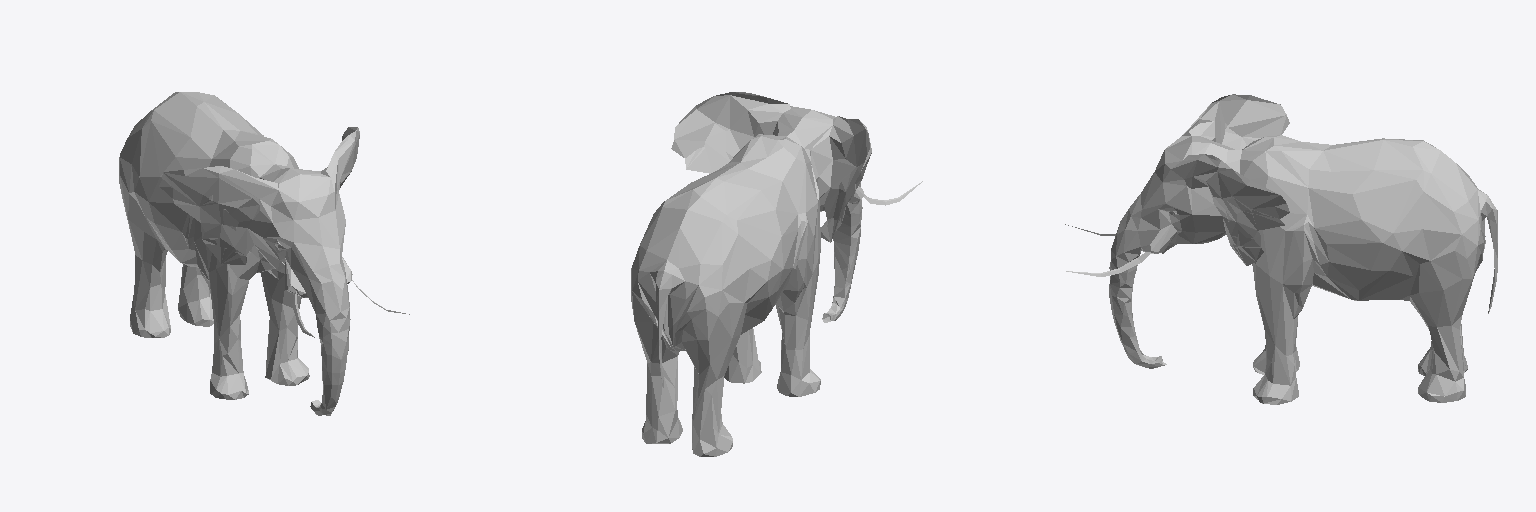
File: elephant.obj
3 renders of one model, left to right at view 1: azimuth 30°, elevation 25°; view 2: azimuth 150°, elevation 25°; view 3: azimuth 270°, elevation 25°, orthographic.
Visible parts, largest first — view 1: elephant1:MainEleH1; view 2: elephant1:MainEleH1; view 3: elephant1:MainEleH1.
Boxes of the visible parts, box(x1,y1,x2,y2) form: elephant1:MainEleH1: box(119, 92, 409, 415); elephant1:MainEleH1: box(631, 92, 922, 456); elephant1:MainEleH1: box(1065, 94, 1497, 404).
Size of the model in its own units: 546 by 715 by 1112.